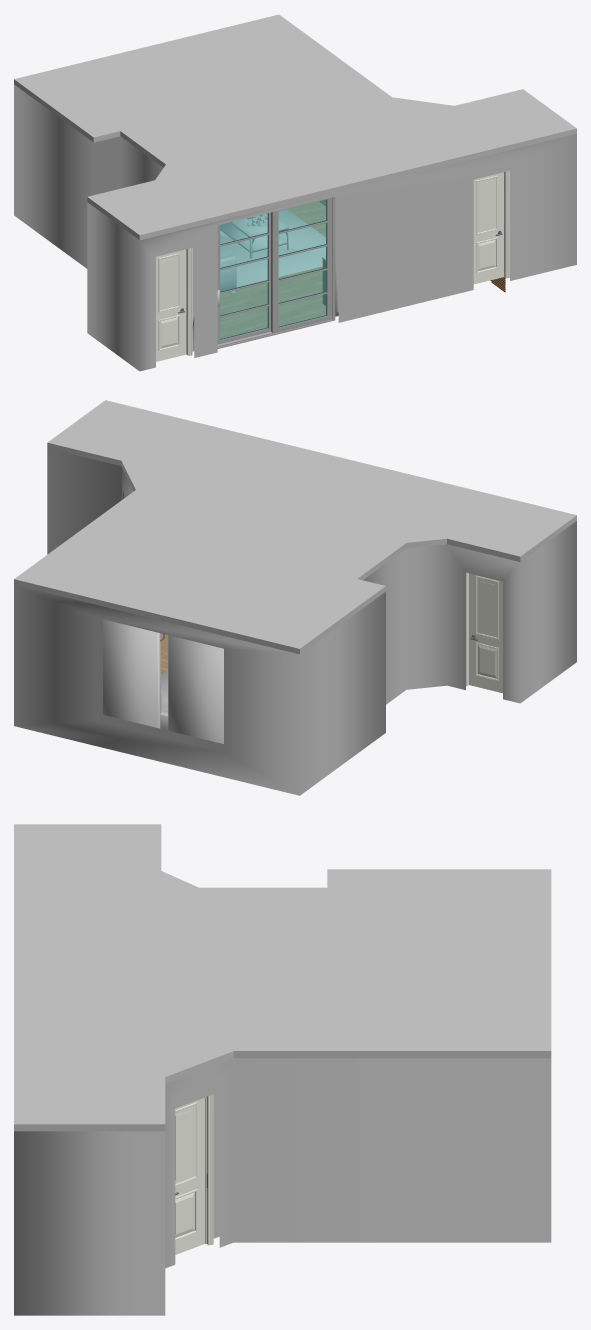
Rendered from dr-neil.glb.
3 views of the same model, one above another, from view 1: azimuth 30°, elevation 25°; view 2: azimuth 150°, elevation 25°; view 3: azimuth 270°, elevation 25° (orthographic). The views are drawn at different scales.
Parts seen in each view (by area): view 1: root; view 2: root; view 3: root.
Part boxes in pixels (x1,y1,x2,y2): root: (14, 14, 576, 371); root: (14, 400, 576, 795); root: (14, 824, 551, 1315).
Size of the model in its own units: 8.88 by 3 by 7.05.
Materials: 33 (14 with a texture image).
